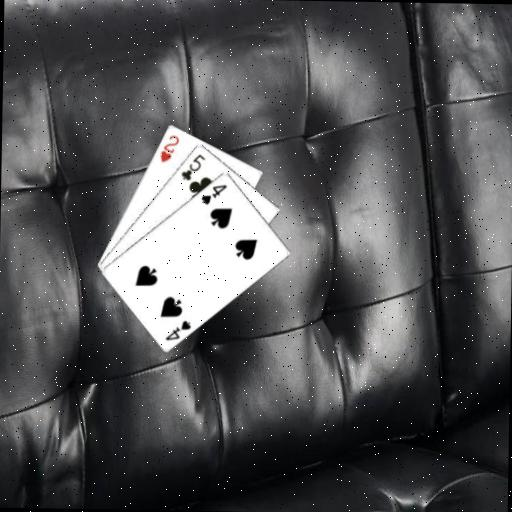2H: (157, 132, 181, 164)
4S: (198, 181, 229, 207), (162, 316, 193, 342)
5C: (178, 150, 207, 182)
